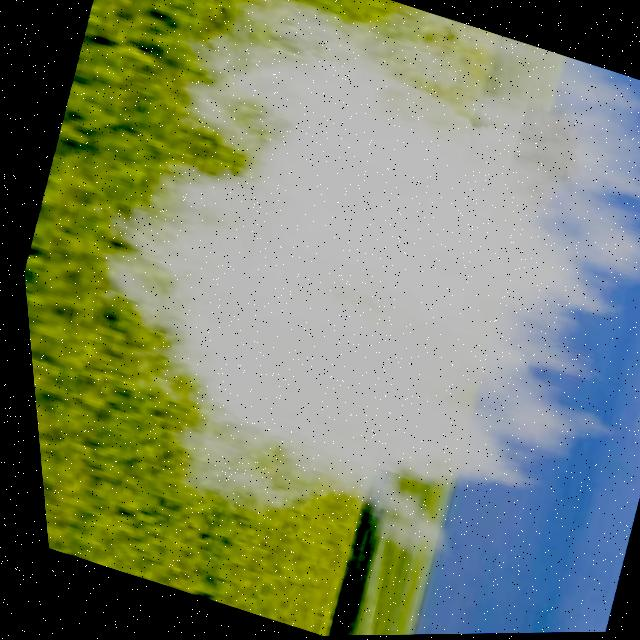Smoke: (25, 0, 640, 634)
